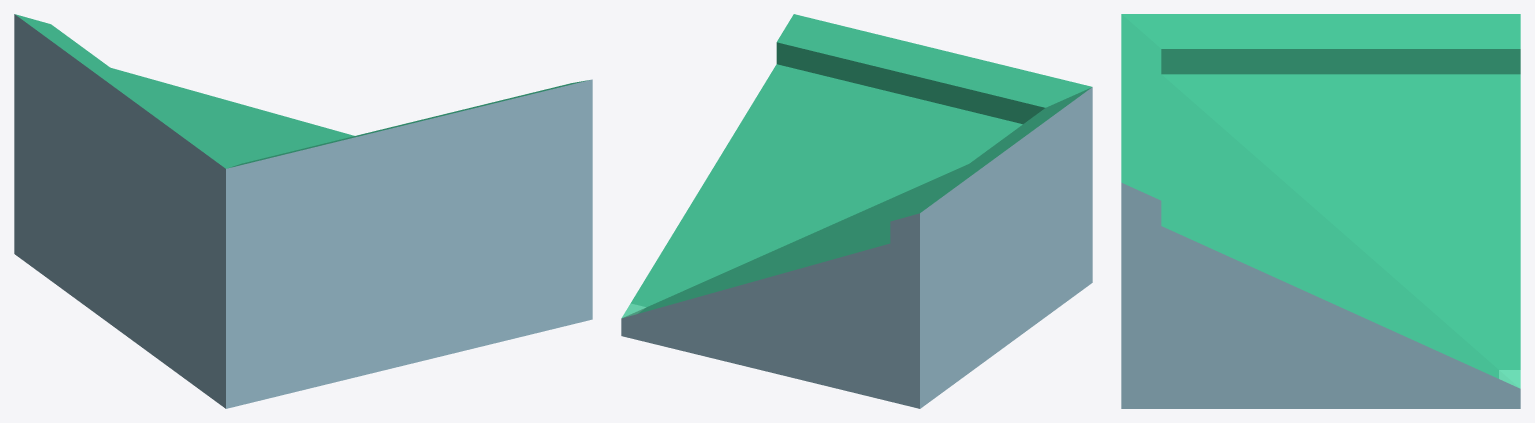
File: roofCornerInner.glb
3 renders of one model, left to right at view 1: azimuth 30°, elevation 25°; view 2: azimuth 150°, elevation 25°; view 3: azimuth 270°, elevation 25°, orthographic. The views are drawn at different scales.
Parts seen in each view (by area): view 1: roofCornerInner; view 2: roofCornerInner; view 3: roofCornerInner.
Boxes of the visible parts, x1=… form: roofCornerInner: x1=14, y1=14, x2=592, y2=408; roofCornerInner: x1=621, y1=14, x2=1092, y2=408; roofCornerInner: x1=1121, y1=14, x2=1520, y2=408.
Bounding box in the file's own units: 1 × 0.6259 × 1.
